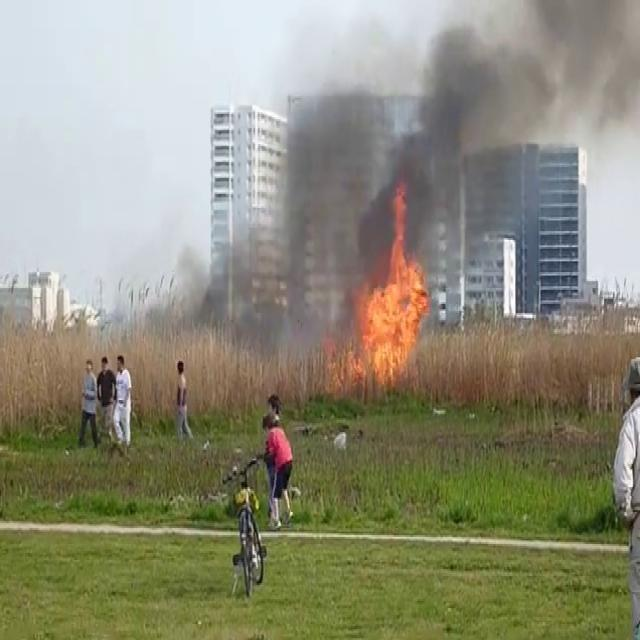Fire: (350, 194, 433, 388)
Smoke: (374, 0, 640, 242), (202, 96, 418, 337)
